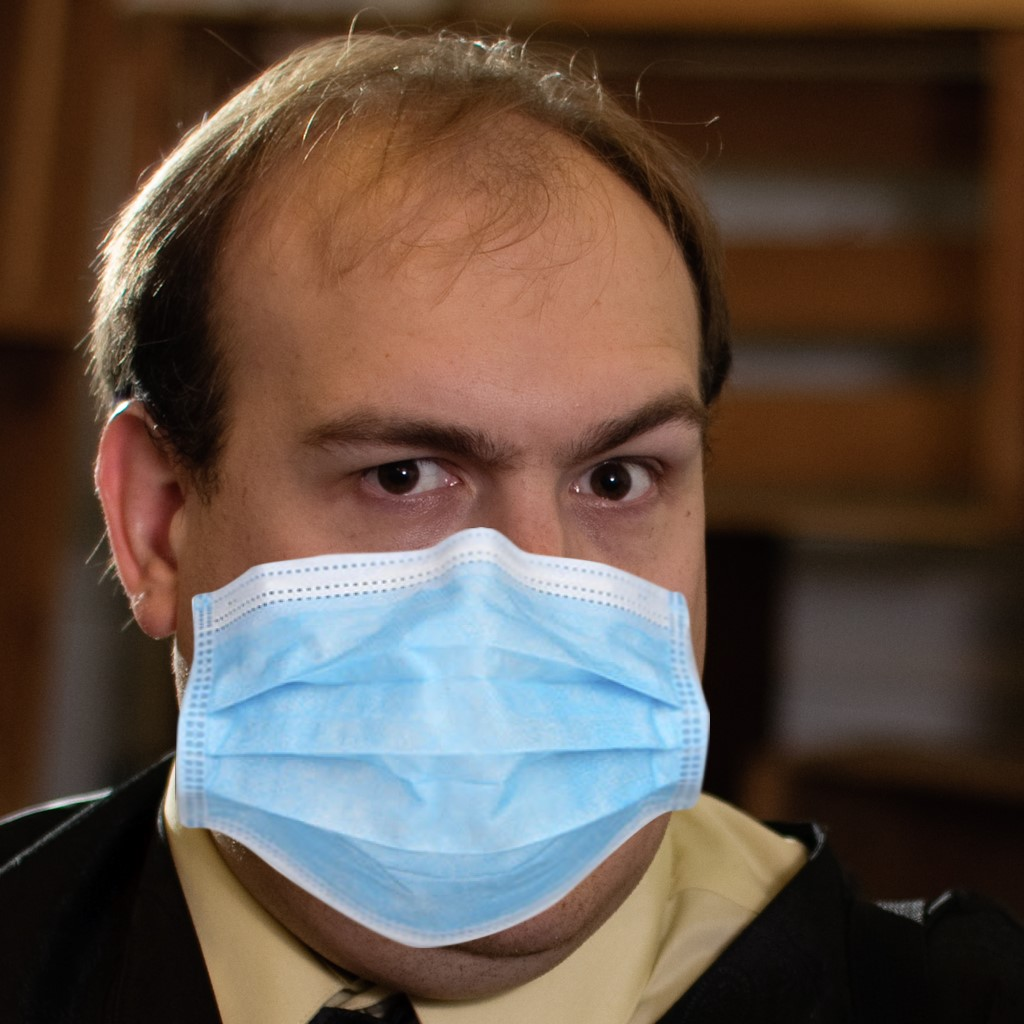con_mascara: (140, 135, 731, 961)
